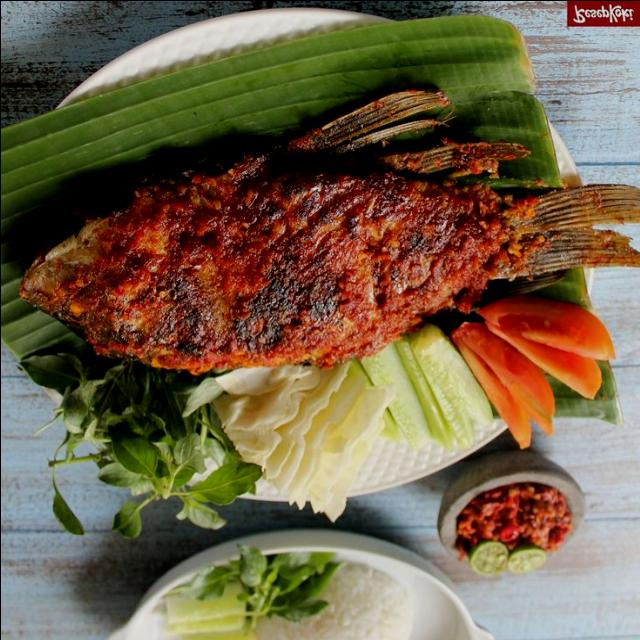ikan bakar: (16, 86, 640, 373)
